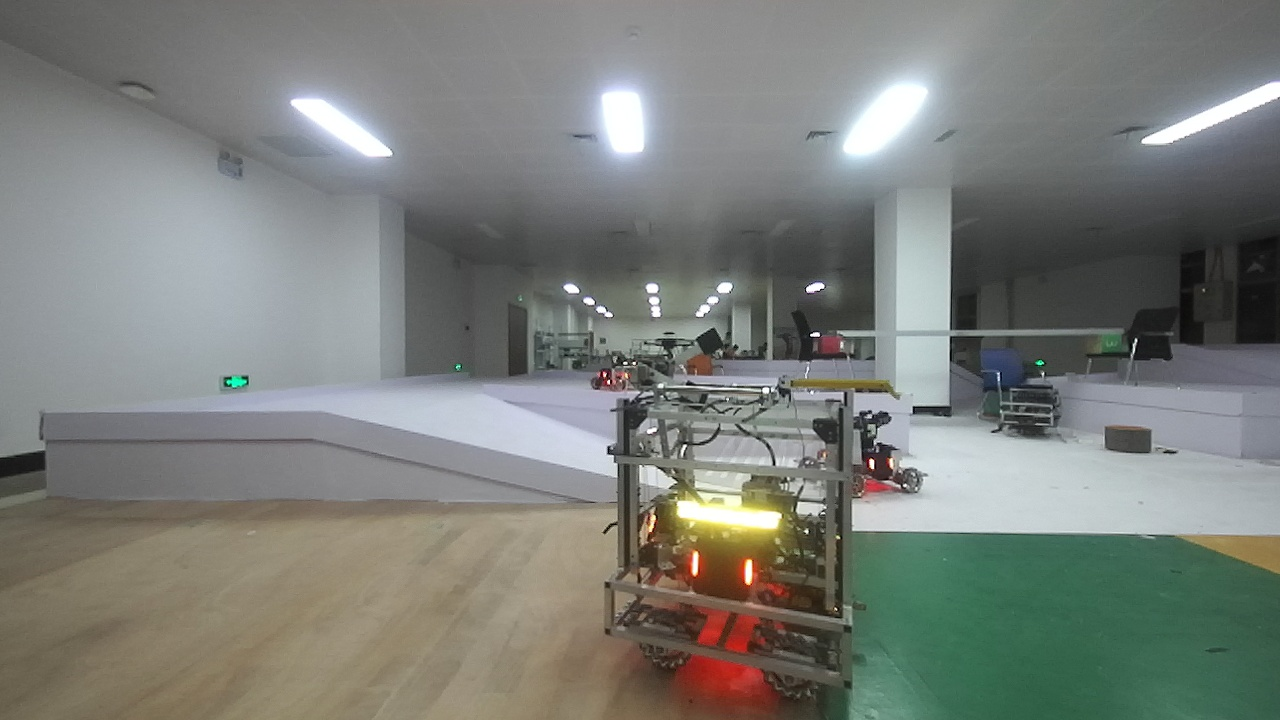car: (598, 398, 879, 717), (810, 405, 931, 503), (586, 357, 633, 398)
